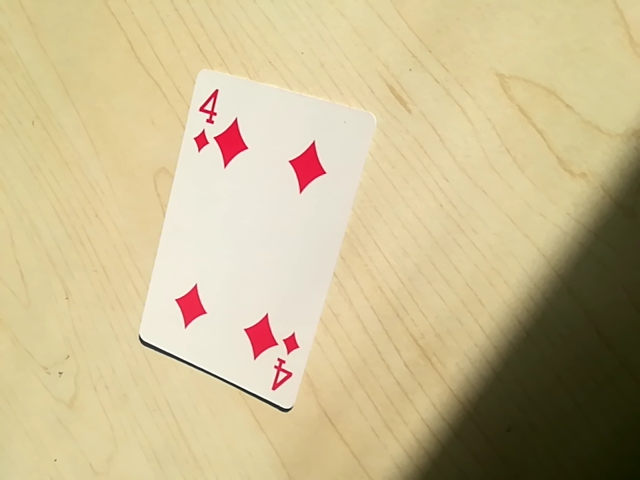fk 4: (192, 84, 233, 147), (261, 336, 298, 402)
